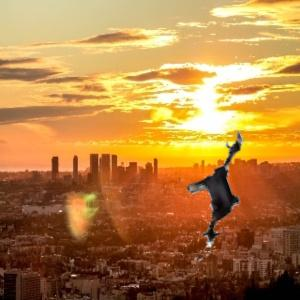drone: (151, 128, 287, 264)
